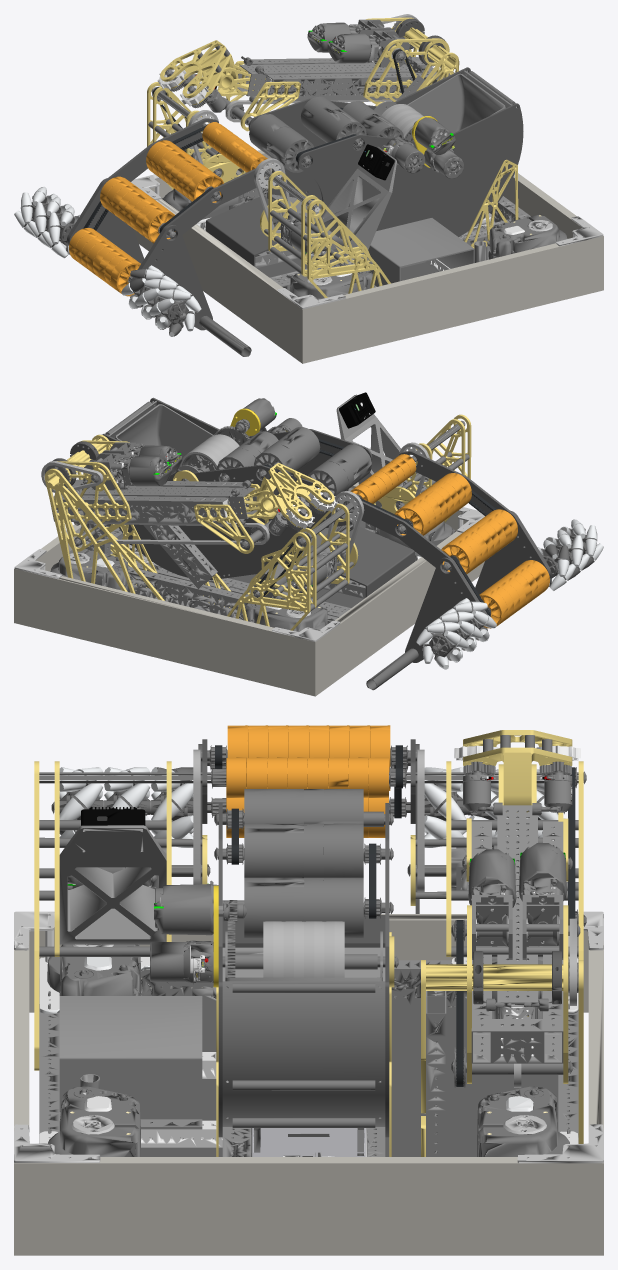
The model's file is hero-sentinel-1923.glb.
The picture shows the model from 3 angles, top to bottom: view 1: azimuth 30°, elevation 25°; view 2: azimuth 150°, elevation 25°; view 3: azimuth 270°, elevation 25°; orthographic projection. The views are drawn at different scales.
Parts seen in each view (by area): view 1: frame, tunnel, intake-arm, arm, arm-slide, hood, flywheel; view 2: frame, intake-arm, tunnel, arm, arm-slide, hood, flywheel; view 3: frame, tunnel, intake-arm, arm, arm-slide, flywheel, hood.
Boxes of the visible parts, box(x1,y1,x2,y2) form: frame: box(67, 14, 603, 363); tunnel: box(248, 67, 523, 290); intake-arm: box(14, 91, 319, 356); arm: box(223, 19, 436, 131); arm-slide: box(157, 40, 409, 112); hood: box(374, 73, 505, 133); flywheel: box(381, 104, 423, 140); frame: box(14, 392, 551, 696); intake-arm: box(300, 420, 603, 690); tunnel: box(102, 397, 372, 617); arm: box(50, 442, 271, 553); arm-slide: box(83, 463, 337, 535); hood: box(115, 404, 240, 481); flywheel: box(180, 434, 239, 481); frame: box(14, 744, 603, 1255); tunnel: box(150, 789, 395, 1156); intake-arm: box(39, 725, 578, 847); arm: box(454, 802, 569, 1087); arm-slide: box(454, 730, 580, 1018); flywheel: box(263, 921, 344, 977); hood: box(225, 931, 382, 988).
Bounding box in the file's own units: 1.05 × 0.4744 × 0.7366.
